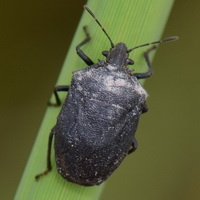insect: (36, 1, 175, 185)
